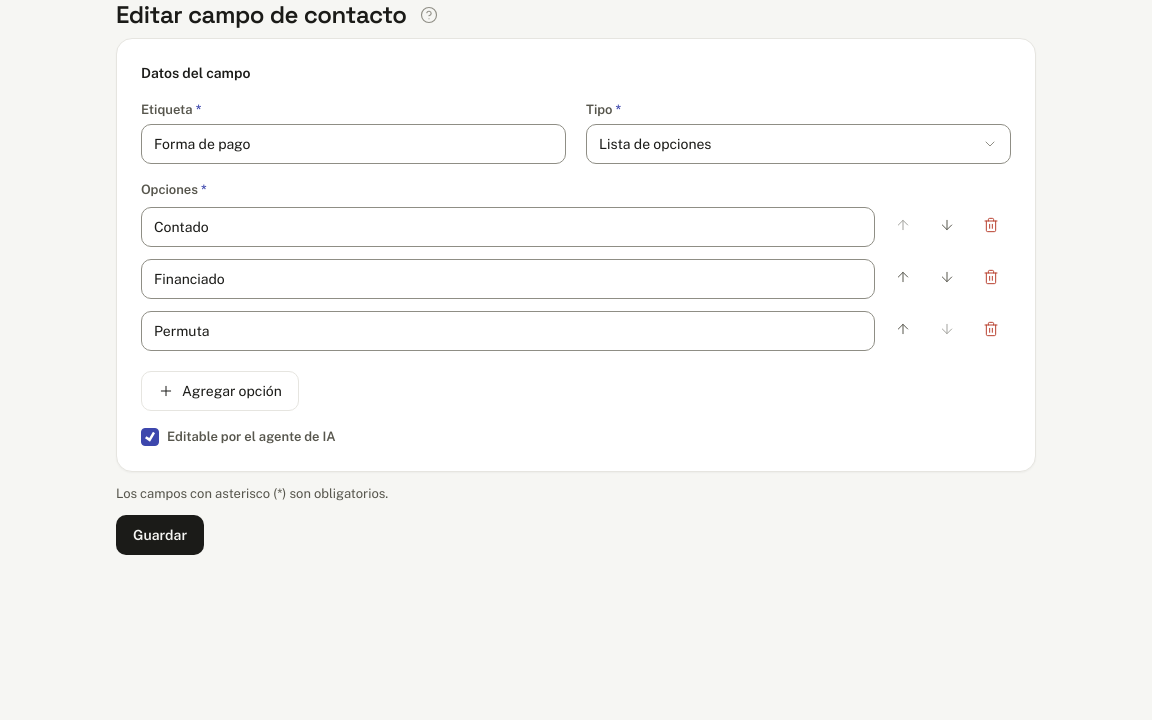
Test: ContactCustomFieldFormPage: opciones que ya usan contactos › Cancelar en el diálogo no guarda nada y el formulario queda como estaba
The width and height of the screenshot is (1152, 720).
Click the button named "Borrar la opción 2" at (991, 277), box x1=971 y1=257 x2=1011 y2=297
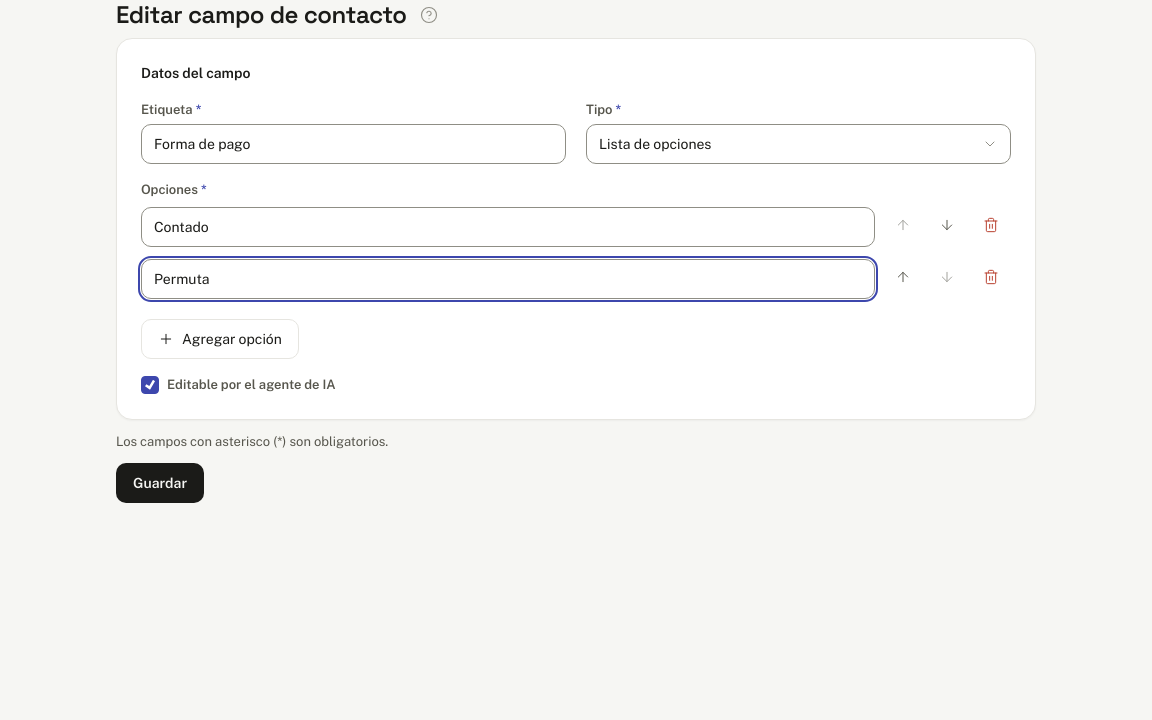
Click the button "Guardar" at (160, 483), box x1=116 y1=463 x2=204 y2=503
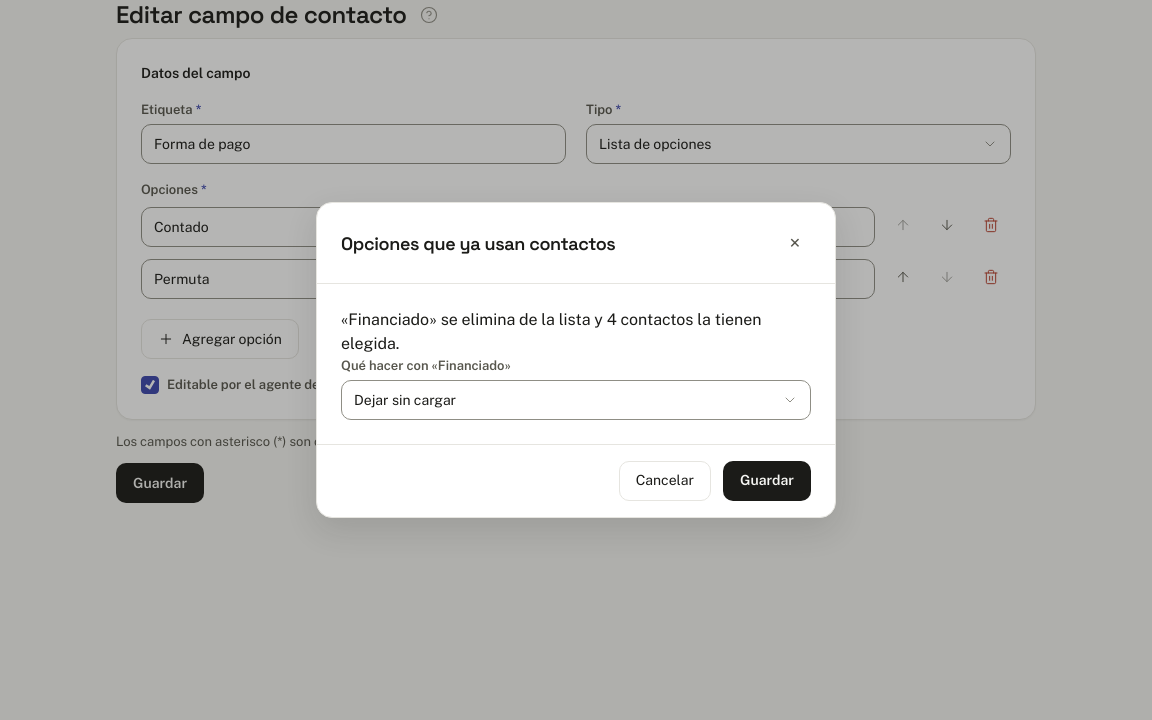
Click the button "Cancelar" at (665, 481), box x1=619 y1=461 x2=711 y2=501
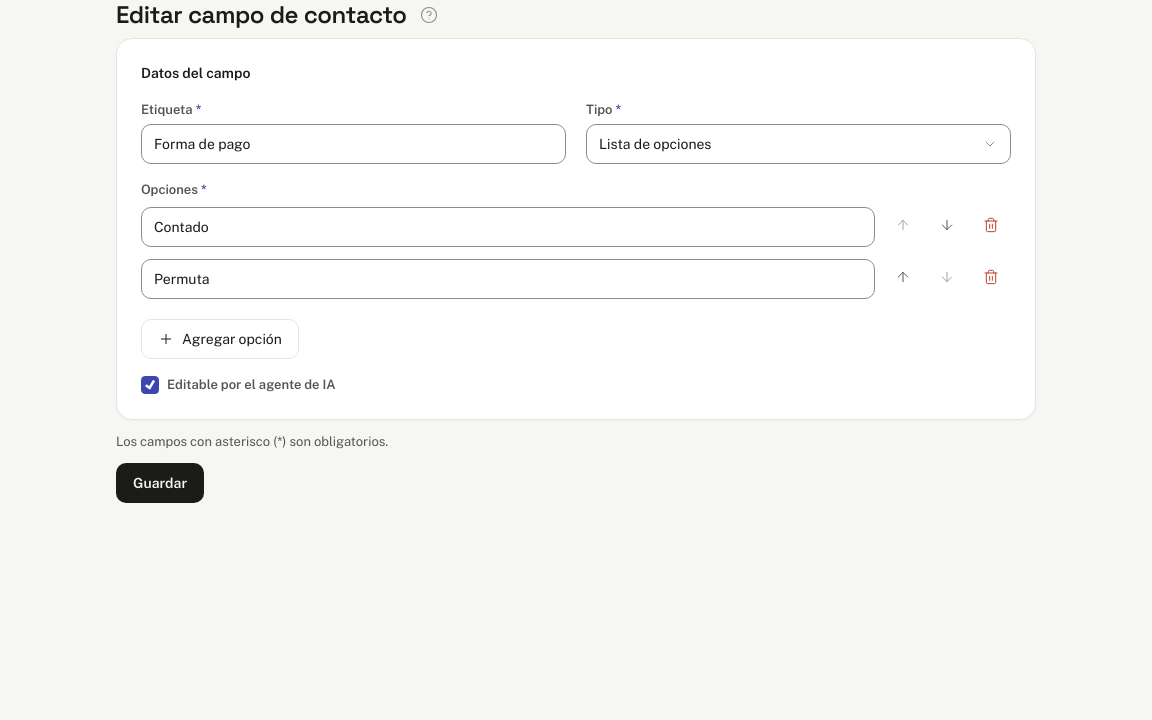
Check: the dialog is gone
